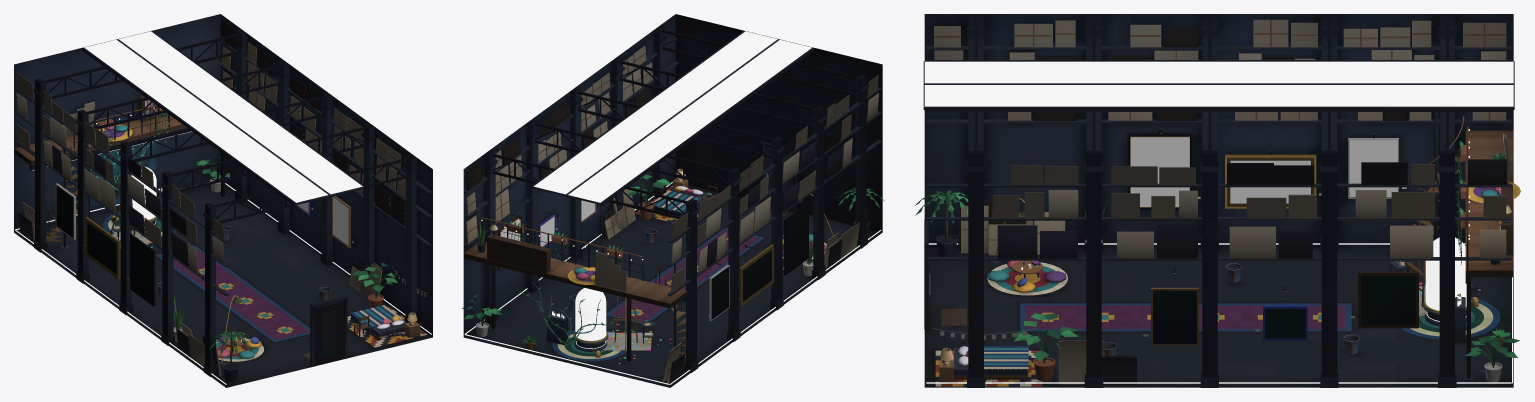
File: galeria-ella.glb
3 renders of one model, left to right at view 1: azimuth 30°, elevation 25°; view 2: azimuth 150°, elevation 25°; view 3: azimuth 270°, elevation 25°, orthographic. The views are drawn at different scales.
Visible parts, largest first — view 1: galeria_solido, galeria_vidro, galeria_neon, tela_janela; view 2: galeria_solido, galeria_vidro, galeria_neon; view 3: galeria_solido, galeria_vidro, tela_cidade, tela_branco, galeria_neon, tela_rio.
Boxes of the visible parts, box(x1,y1,x2,y2) form: galeria_solido: box(14, 14, 432, 387); galeria_vidro: box(84, 31, 362, 220); galeria_neon: box(15, 131, 431, 384); tela_janela: box(333, 197, 348, 245); galeria_solido: box(462, 14, 884, 387); galeria_vidro: box(534, 31, 811, 340); galeria_neon: box(464, 182, 881, 384); galeria_solido: box(914, 14, 1520, 387); galeria_vidro: box(924, 61, 1513, 310); tela_cidade: box(1130, 137, 1189, 206); tela_branco: box(1349, 140, 1397, 196); galeria_neon: box(926, 243, 1512, 383); tela_rio: box(1230, 160, 1310, 203).
Bounding box in the file's own units: 9.68 × 7.03 × 16.49.
